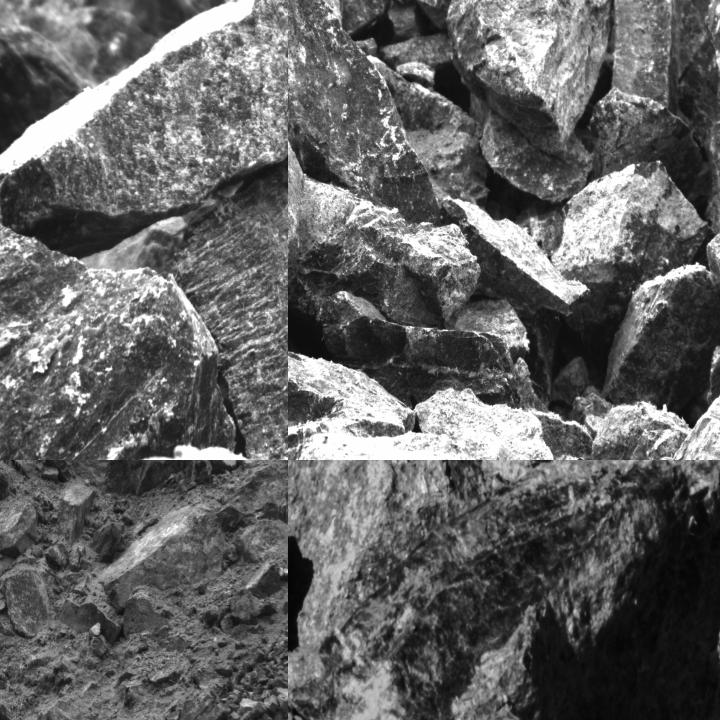stone: (288, 460, 696, 719), (0, 0, 287, 261), (0, 190, 236, 459), (168, 0, 287, 459), (288, 0, 445, 228), (550, 160, 713, 350), (288, 460, 466, 632), (445, 0, 620, 157), (320, 291, 522, 409), (601, 261, 719, 420), (611, 0, 682, 118), (75, 460, 184, 496), (0, 564, 53, 637), (380, 0, 471, 33), (59, 597, 121, 644), (0, 500, 40, 562), (177, 692, 228, 719), (272, 686, 287, 712), (89, 623, 101, 638)
